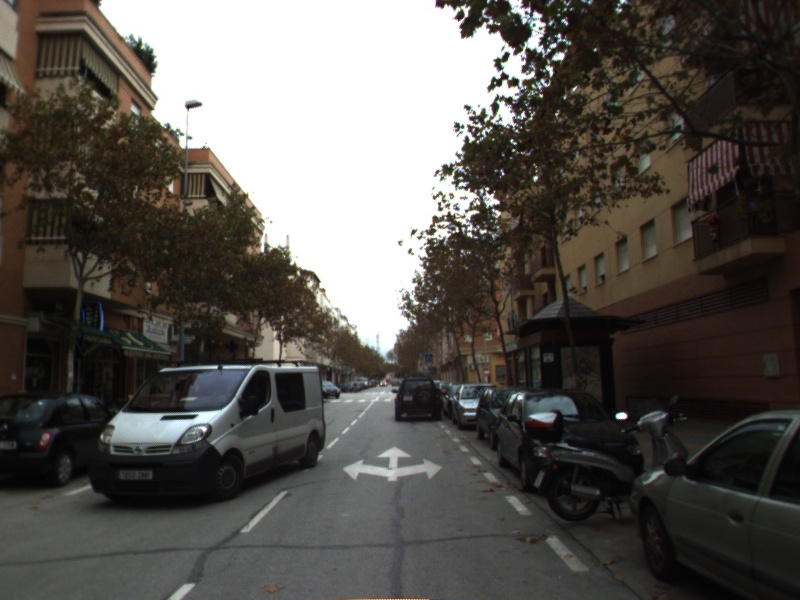STRAIGHT_LEFT_RIGHT: (341, 444, 446, 483)
